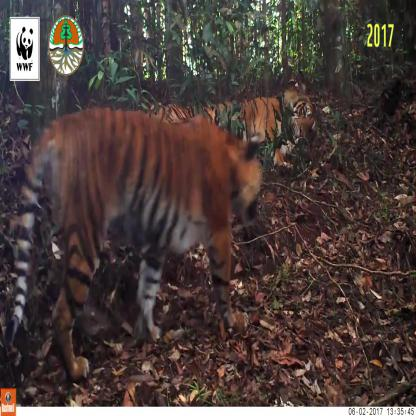Tiger: (8, 119, 271, 377), (184, 73, 324, 129)
